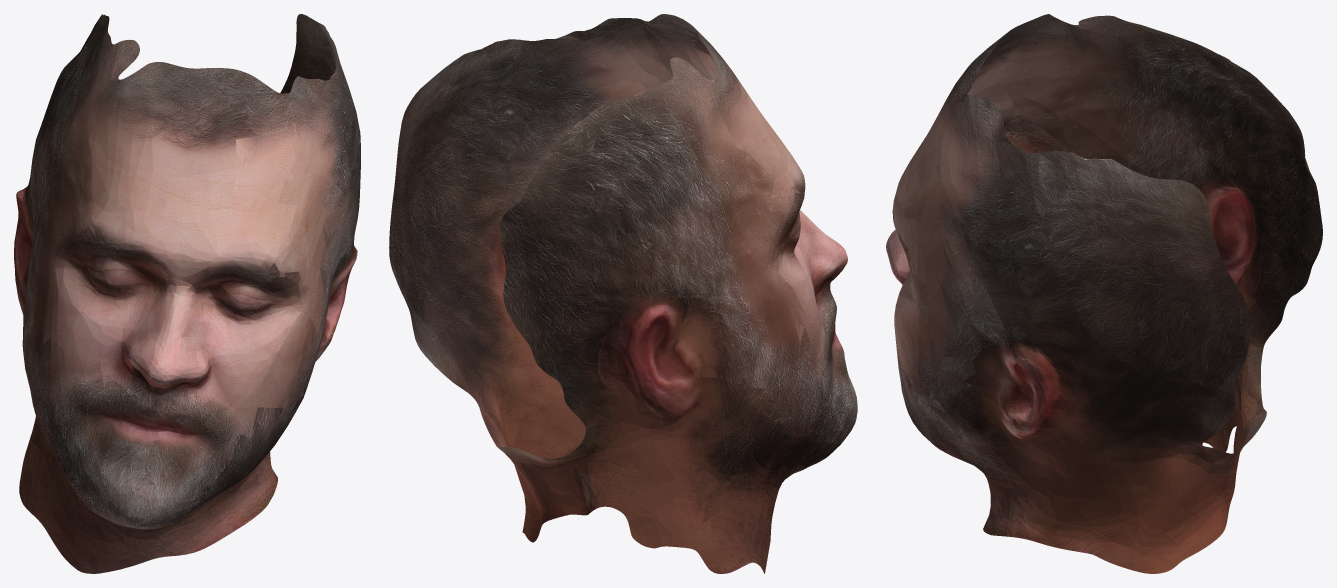
Rendered from BUSTO_3.obj.
3 views of the same model, side by side, from view 1: azimuth 30°, elevation 25°; view 2: azimuth 150°, elevation 25°; view 3: azimuth 270°, elevation 25° (orthographic). The views are drawn at different scales.
Visible parts, largest first — view 1: Busto_15_3_Gu_Busto_15_3.001; view 2: Busto_15_3_Gu_Busto_15_3.001; view 3: Busto_15_3_Gu_Busto_15_3.001.
Boxes of the visible parts, left/top/right/bottom form: Busto_15_3_Gu_Busto_15_3.001: left=14, top=14, right=360, bottom=573; Busto_15_3_Gu_Busto_15_3.001: left=389, top=14, right=857, bottom=573; Busto_15_3_Gu_Busto_15_3.001: left=886, top=14, right=1322, bottom=573.
Bounding box in the file's own units: 3.43 × 4.89 × 3.65.
1 material, 1 textured.
